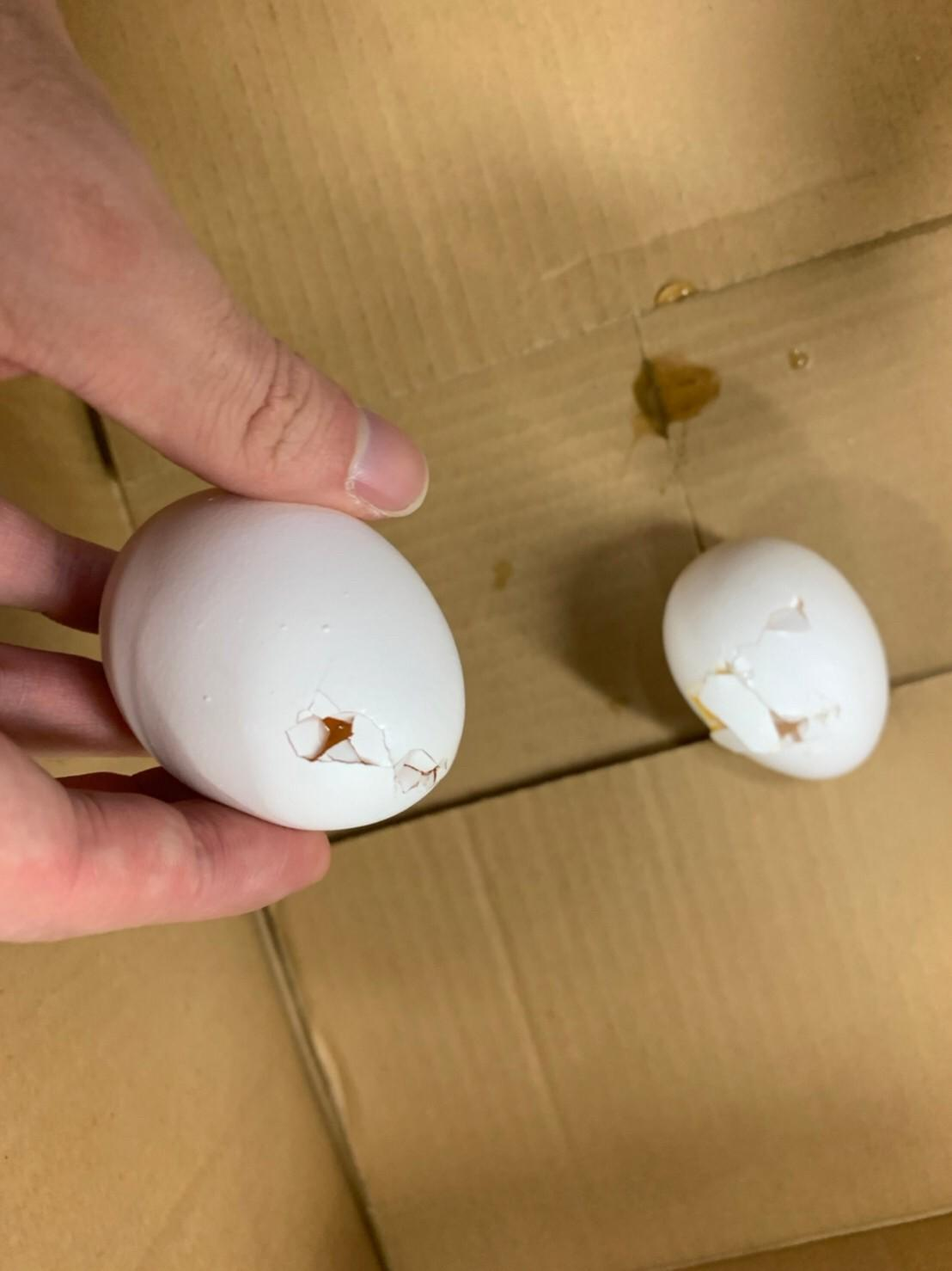egg: (88, 496, 469, 831), (656, 528, 894, 784)
